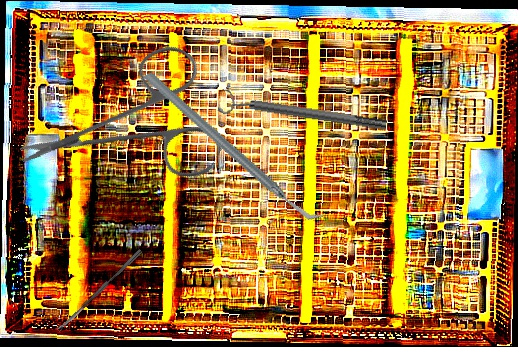Chopper: (143, 31, 325, 262)
Fixation Ring: (216, 85, 389, 141)
Iris Scissors: (15, 4, 255, 245)
Surgical Spoon: (55, 248, 143, 333)
